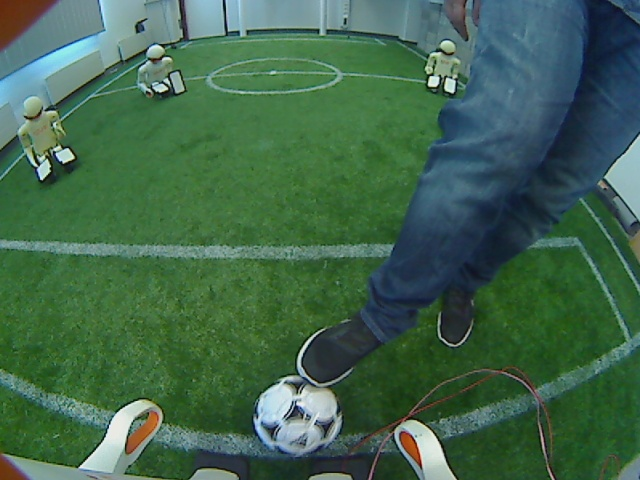ball: (250, 375, 345, 457)
robot: (15, 95, 82, 184), (133, 41, 188, 102), (422, 34, 463, 98)
